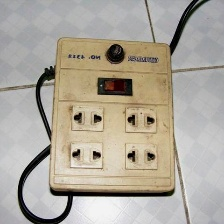three_eye_plug: (45, 33, 179, 197)
